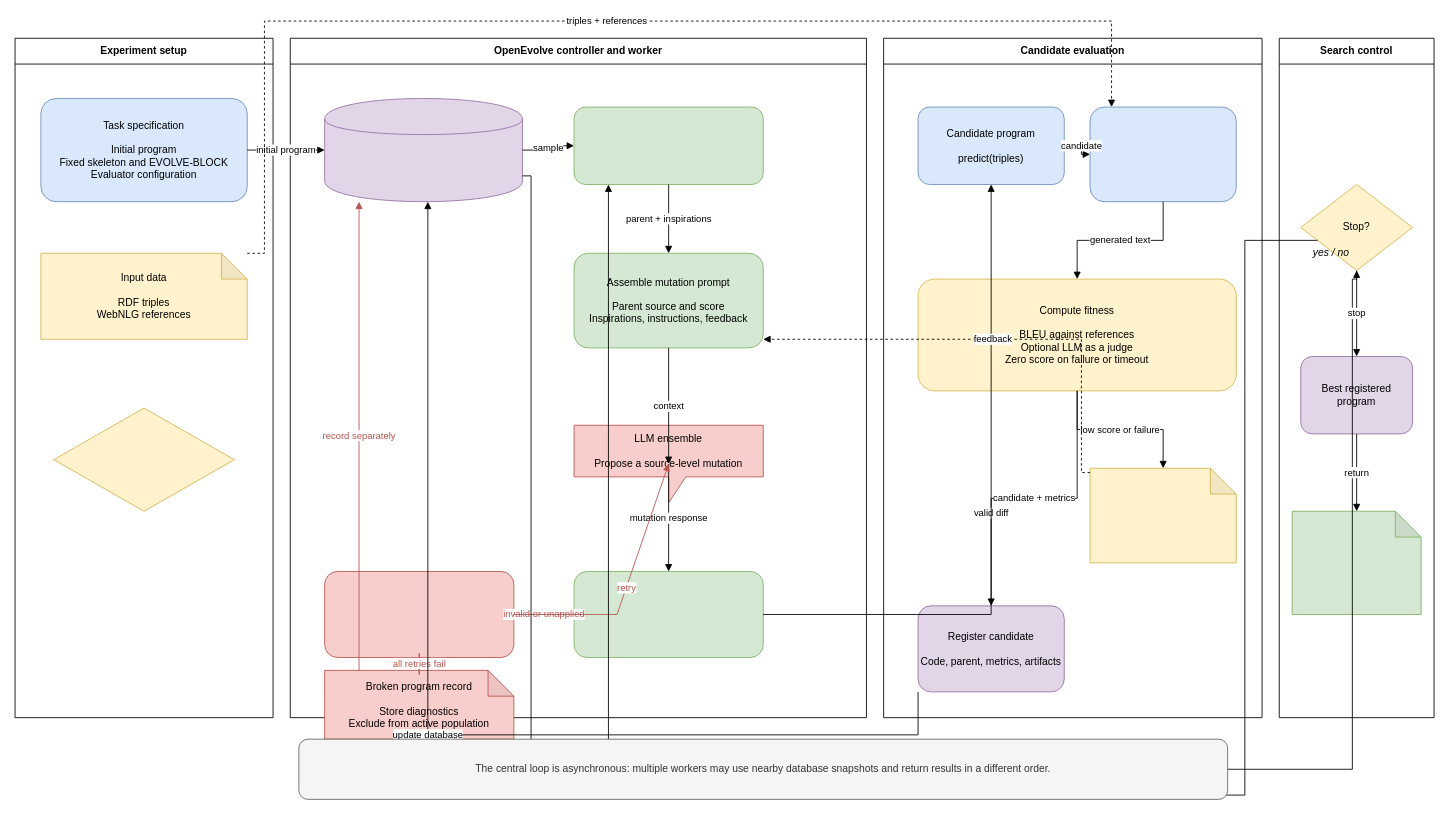
Some shapes in this 1449 by 817 pixel diagram are drawn without their labels. The centre of each missing label's shape, as x and y in pixels:
"Execute on evaluation data Generate text for each triple set" goes at pixel 1162 154.
"Feedback artifacts Low-scoring triples and text Judge review or error details" goes at pixel 1162 515.
"Final surface realizer Executable program and generated text" goes at pixel 1356 562.
"Parse and apply patch SEARCH/REPLACE or full rewrite" goes at pixel 668 614.
"Program database Islands, populations, archive Source code, metrics, artifacts" goes at pixel 423 150.
"Repair prompt Malformed or unapplied response Retry mutation" goes at pixel 419 614.
"Select parent and inspirations" goes at pixel 668 145.
"Stopping criteria Iteration budget Target score or stopping rule" goes at pixel 143 459.
